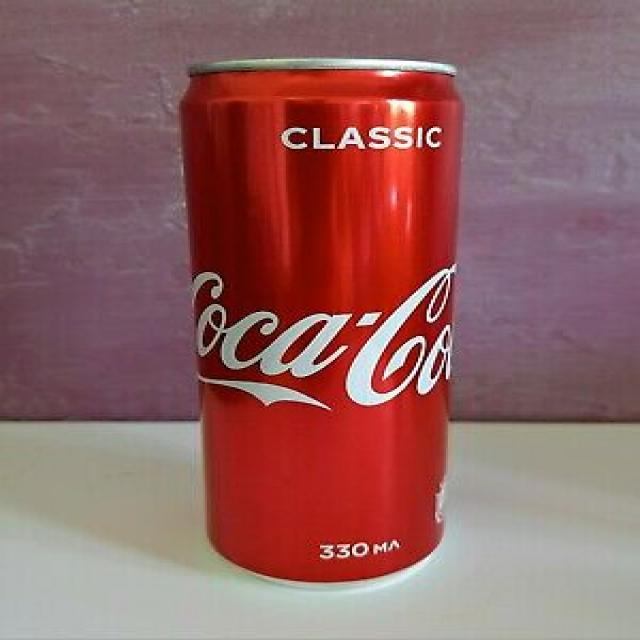non-organic waste: (169, 31, 489, 602)
